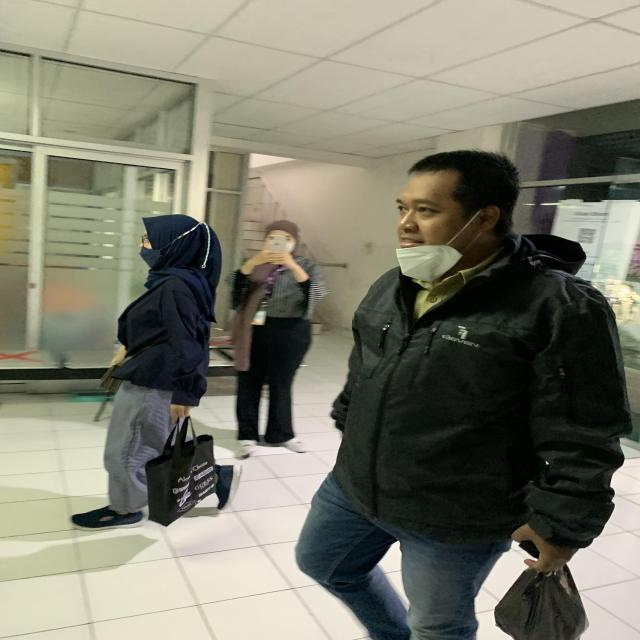hairnet: (323, 133, 563, 300)
